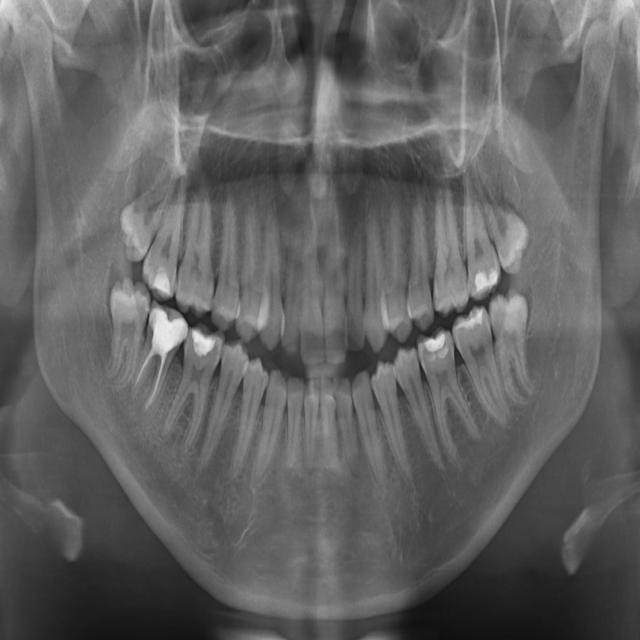CompositeResinRestoration: (147, 308, 184, 345), (455, 310, 487, 340), (424, 328, 448, 361), (188, 331, 217, 356), (475, 267, 501, 294), (154, 271, 172, 301)
DentalCaries: (433, 288, 445, 315), (418, 345, 431, 369), (466, 270, 477, 298), (444, 334, 454, 364), (182, 336, 194, 354)
ImpactedTooth: (489, 287, 539, 403), (106, 278, 150, 376)
RootCanalTreatment: (126, 346, 170, 411)
